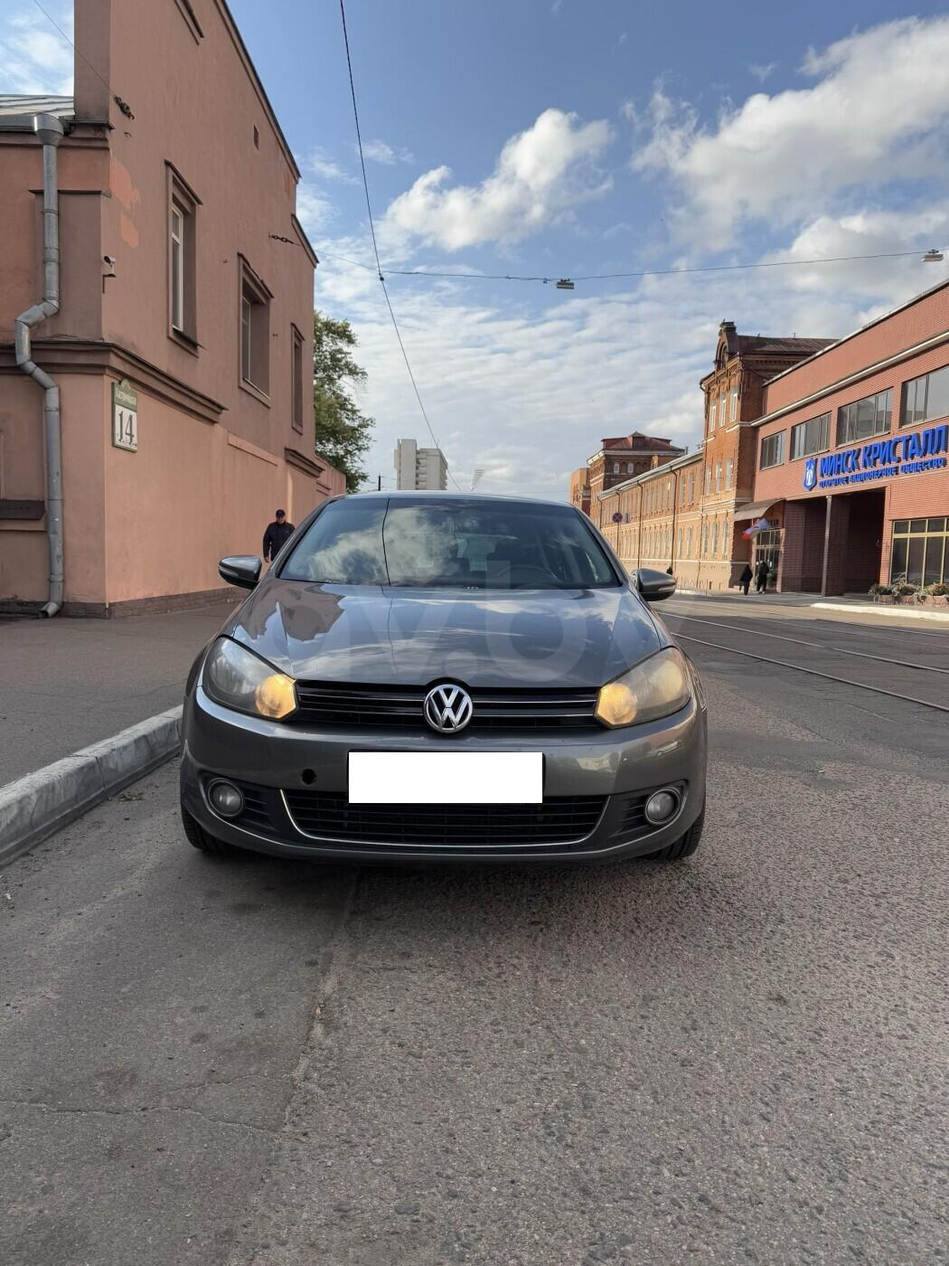Golf_2008-2013: (183, 475, 719, 881)
